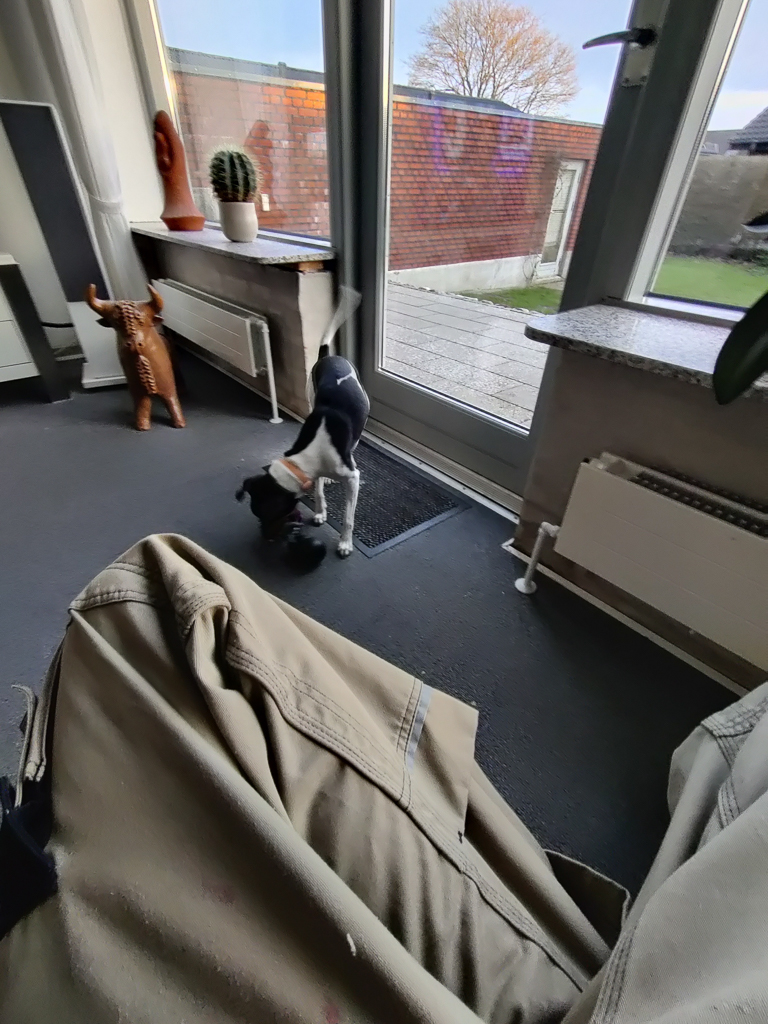Cattle: (81, 276, 198, 437)
Dog: (230, 285, 385, 566)
Humanoid: (0, 501, 768, 1024), (144, 103, 213, 220), (257, 511, 316, 551)
